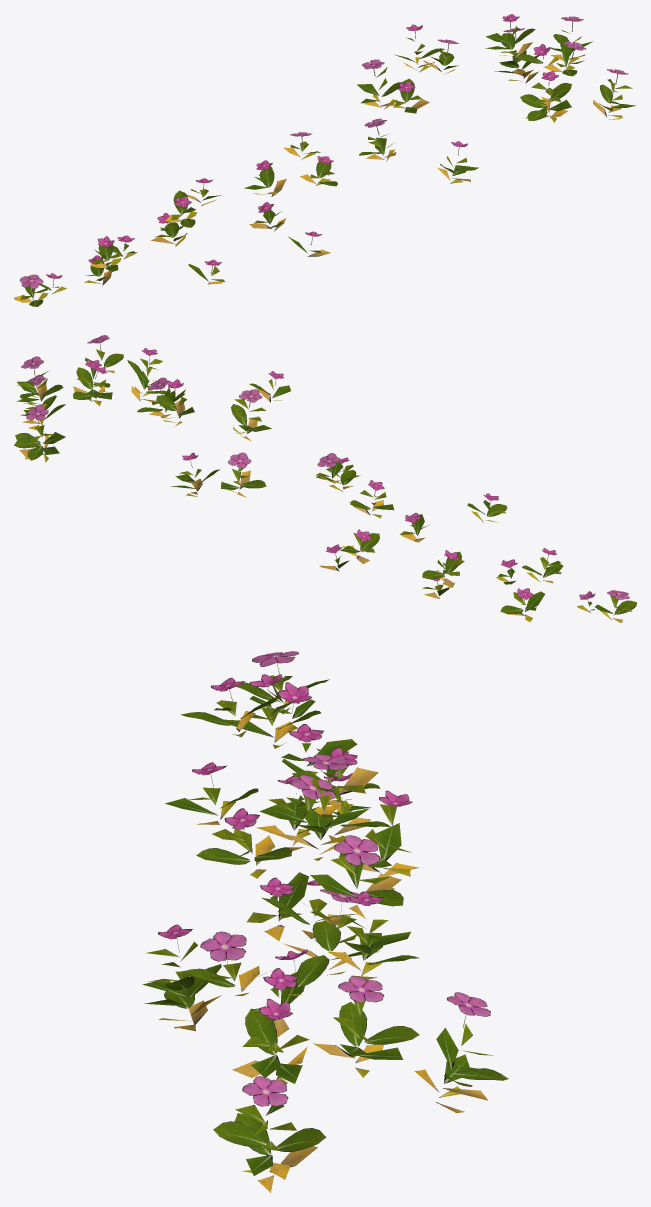
File: periwinkle.glb
3 renders of one model, top to bottom at view 1: azimuth 30°, elevation 25°; view 2: azimuth 150°, elevation 25°; view 3: azimuth 270°, elevation 25°, orthographic. The views are drawn at different scales.
Parts seen in each view (by area): view 1: periwinkle_plant_01_LOD0, periwinkle_plant_02_LOD0, periwinkle_plant_03_LOD0, periwinkle_plant_04_LOD0, periwinkle_plant_05_LOD0, periwinkle_plant_06_LOD0; view 2: periwinkle_plant_01_LOD0, periwinkle_plant_02_LOD0, periwinkle_plant_03_LOD0, periwinkle_plant_04_LOD0, periwinkle_plant_05_LOD0, periwinkle_plant_06_LOD0; view 3: periwinkle_plant_01_LOD0, periwinkle_plant_02_LOD0, periwinkle_plant_03_LOD0, periwinkle_plant_04_LOD0, periwinkle_plant_05_LOD0, periwinkle_plant_06_LOD0.
Part boxes in pixels (x1=…): periwinkle_plant_01_LOD0: x1=485, y1=14, x2=635, y2=122; periwinkle_plant_02_LOD0: x1=357, y1=24, x2=478, y2=183; periwinkle_plant_03_LOD0: x1=244, y1=132, x2=337, y2=256; periwinkle_plant_04_LOD0: x1=151, y1=178, x2=225, y2=284; periwinkle_plant_05_LOD0: x1=84, y1=235, x2=137, y2=285; periwinkle_plant_06_LOD0: x1=14, y1=273, x2=66, y2=306; periwinkle_plant_01_LOD0: x1=14, y1=335, x2=170, y2=462; periwinkle_plant_02_LOD0: x1=137, y1=371, x2=290, y2=497; periwinkle_plant_03_LOD0: x1=316, y1=453, x2=393, y2=571; periwinkle_plant_04_LOD0: x1=400, y1=493, x2=507, y2=598; periwinkle_plant_05_LOD0: x1=496, y1=548, x2=563, y2=621; periwinkle_plant_06_LOD0: x1=577, y1=590, x2=636, y2=622; periwinkle_plant_01_LOD0: x1=142, y1=891, x2=508, y2=1192; periwinkle_plant_02_LOD0: x1=165, y1=754, x2=418, y2=1083; periwinkle_plant_03_LOD0: x1=196, y1=775, x2=357, y2=1037; periwinkle_plant_04_LOD0: x1=181, y1=677, x2=390, y2=940; periwinkle_plant_05_LOD0: x1=224, y1=674, x2=380, y2=806; periwinkle_plant_06_LOD0: x1=236, y1=651, x2=329, y2=732.
Bounding box in the file's own units: 1.24 × 0.3457 × 0.3207.
Materials: 1 (1 with a texture image).
